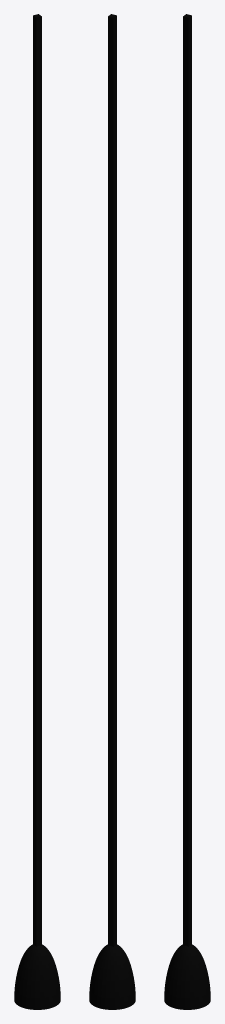
File: hanginglamp.obj
3 renders of one model, left to right at view 1: azimuth 30°, elevation 25°; view 2: azimuth 150°, elevation 25°; view 3: azimuth 330°, elevation 25°, orthographic.
Visible parts, largest first — view 1: Cube.003, Sphere.002; view 2: Cube.003, Sphere.002; view 3: Cube.003, Sphere.002.
Part boxes in pixels (x1,y1,x2,y2): Cube.003: (33, 14, 41, 946); Sphere.002: (14, 944, 60, 1009); Cube.003: (108, 14, 116, 946); Sphere.002: (89, 944, 135, 1009); Cube.003: (183, 14, 191, 946); Sphere.002: (164, 944, 210, 1009).
Bounding box in the file's own units: 0.358 × 8.38 × 0.36.
